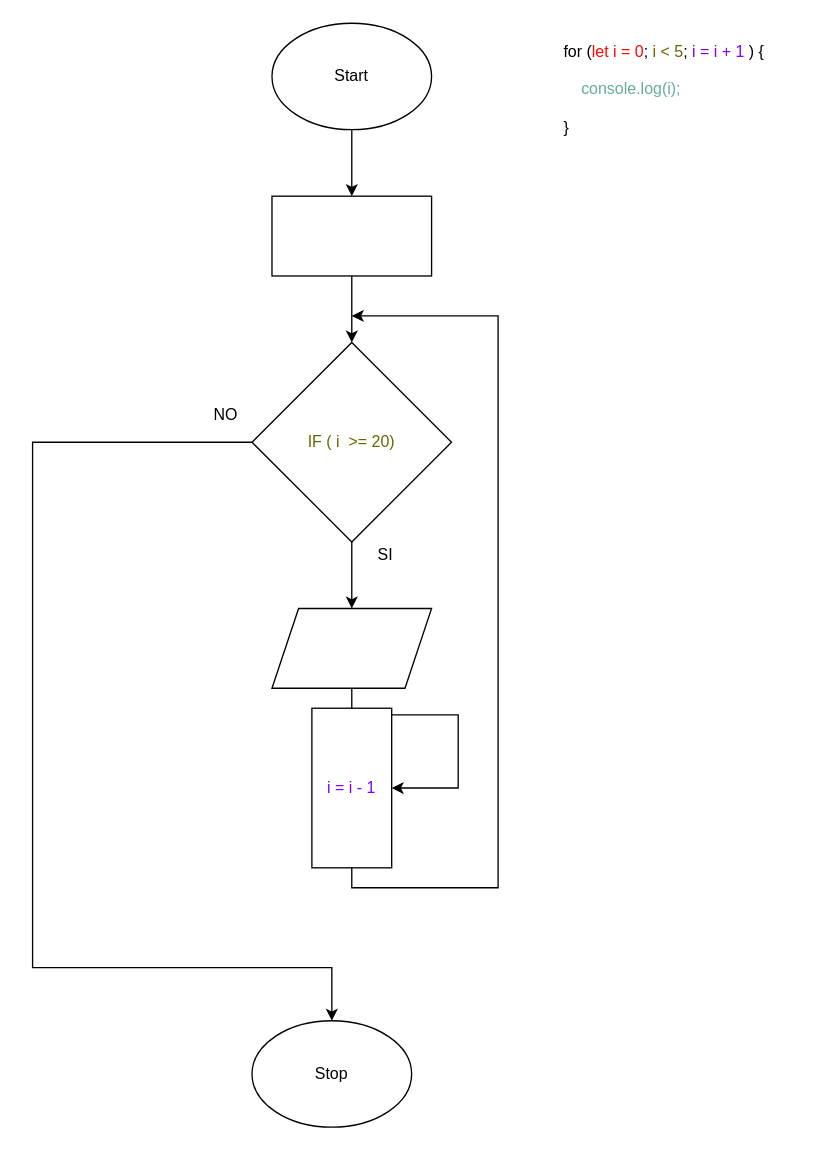
Some shapes in this 814 by 1150 pixel diagram are drawn without their labels. Here are the shapes that lost their labels. From the top down, the centre of each, then its label:
point (351, 235): let i = 100;
point (351, 647): console.log( i );
